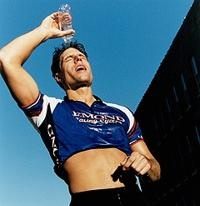person without safety: (43, 41, 154, 193)
